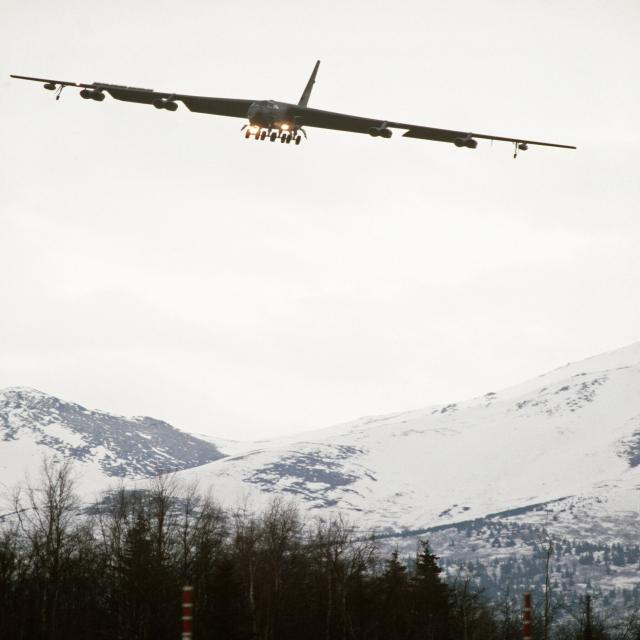MIL_Plane: (0, 60, 384, 158)
